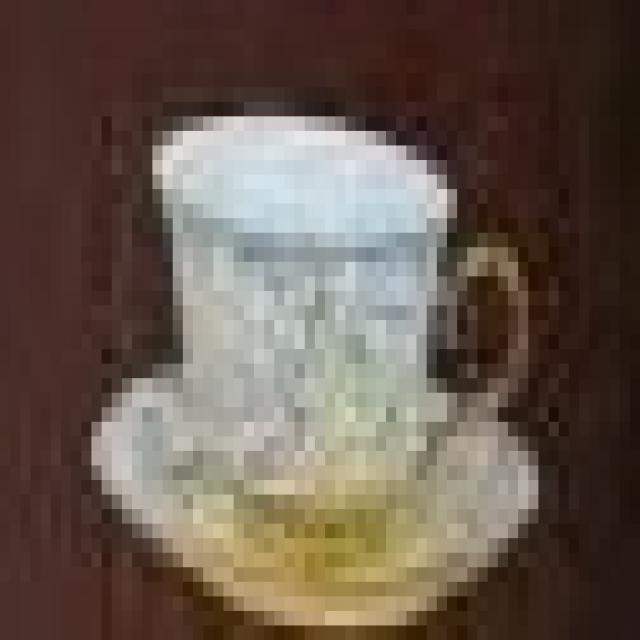taza: (123, 74, 546, 546)
